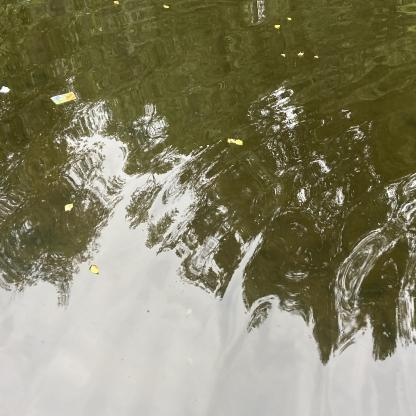trash: (51, 88, 78, 107), (0, 82, 12, 98)
